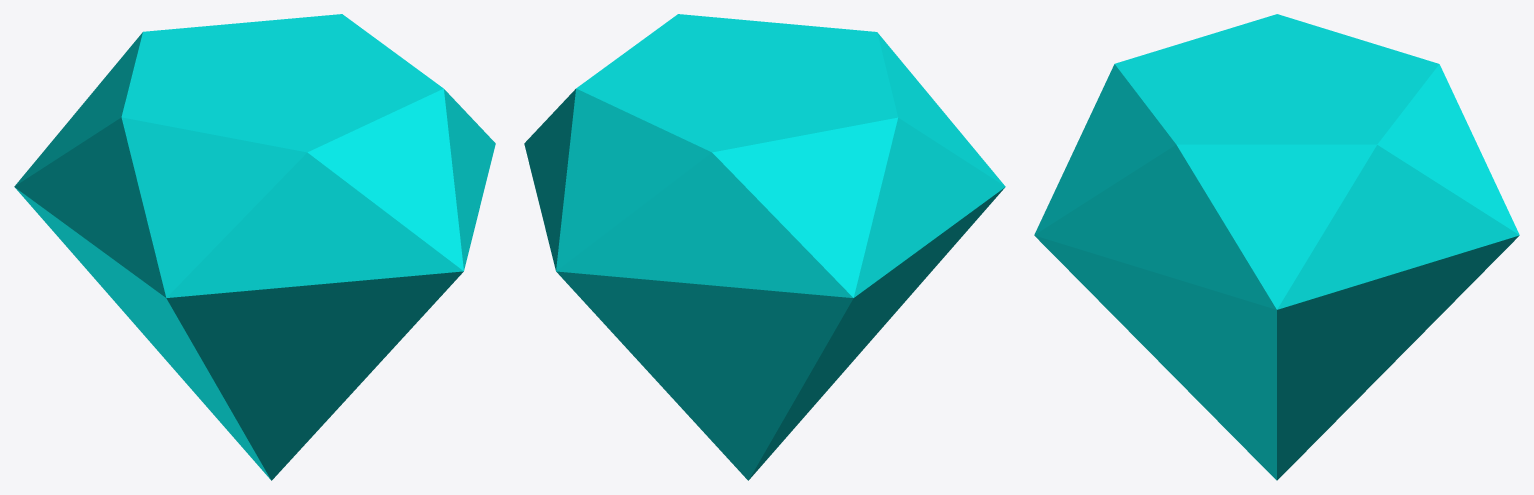
Rendered from gem.glb.
3 renders of one model, left to right at view 1: azimuth 30°, elevation 25°; view 2: azimuth 150°, elevation 25°; view 3: azimuth 270°, elevation 25°, orthographic.
Visible parts, largest first — view 1: Icosphere; view 2: Icosphere; view 3: Icosphere.
Boxes of the visible parts, x1,y1,x2,y2 form: Icosphere: (14,14,495,480); Icosphere: (524,14,1005,480); Icosphere: (1034,14,1519,480).
Bounding box in the file's own units: 1.26 × 1.19 × 1.33.
